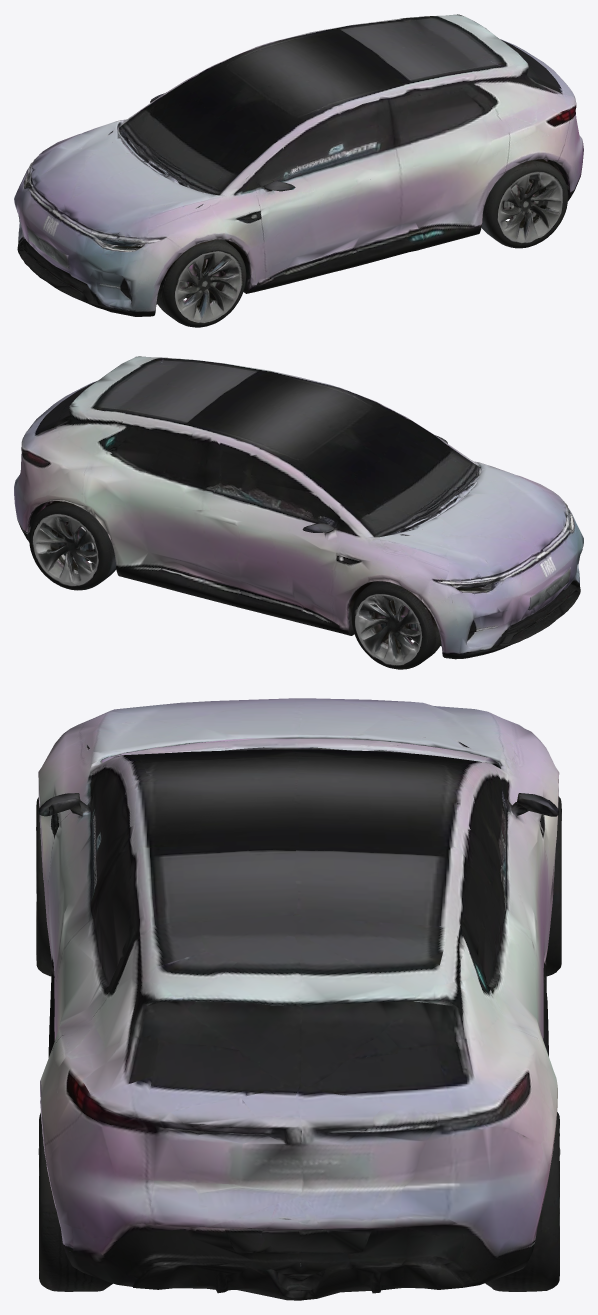
File: mobil-konsep-lite.glb
3 renders of one model, top to bottom at view 1: azimuth 30°, elevation 25°; view 2: azimuth 150°, elevation 25°; view 3: azimuth 270°, elevation 25°, orthographic. The views are drawn at different scales.
Parts seen in each view (by area): view 1: body, wheel_AR, wheel_BR; view 2: body, wheel_AL, wheel_BL; view 3: body, wheel_BL, wheel_BR, wheel_AL, wheel_AR.
Boxes of the visible parts, box(x1,y1,x2,y2) form: body: box(14, 14, 583, 316); wheel_AR: box(156, 239, 246, 327); wheel_BR: box(481, 159, 568, 248); body: box(14, 356, 583, 659); wheel_AL: box(351, 581, 441, 669); wheel_BL: box(29, 501, 116, 590); body: box(38, 698, 559, 1300); wheel_BL: box(495, 1112, 560, 1291); wheel_BR: box(38, 1113, 102, 1291); wheel_AL: box(546, 796, 561, 976); wheel_AR: box(36, 797, 51, 976).
Size of the model in its own units: 1.9 by 0.6149 by 0.8497.
1 material, 1 textured.
